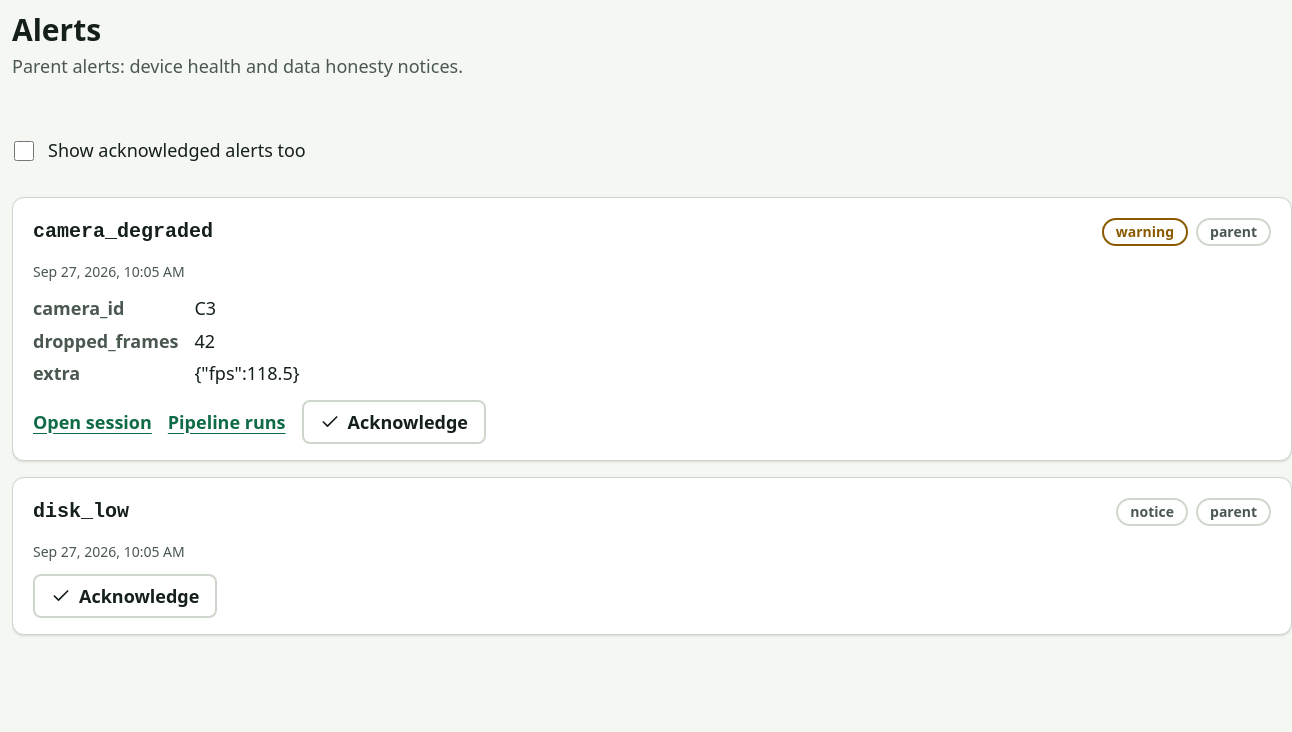
Test case: acknowledgement › replaces the row with the server's answer
Click the button "Acknowledge" next to "Pipeline runs" at (394,422), box [302,400,486,444]
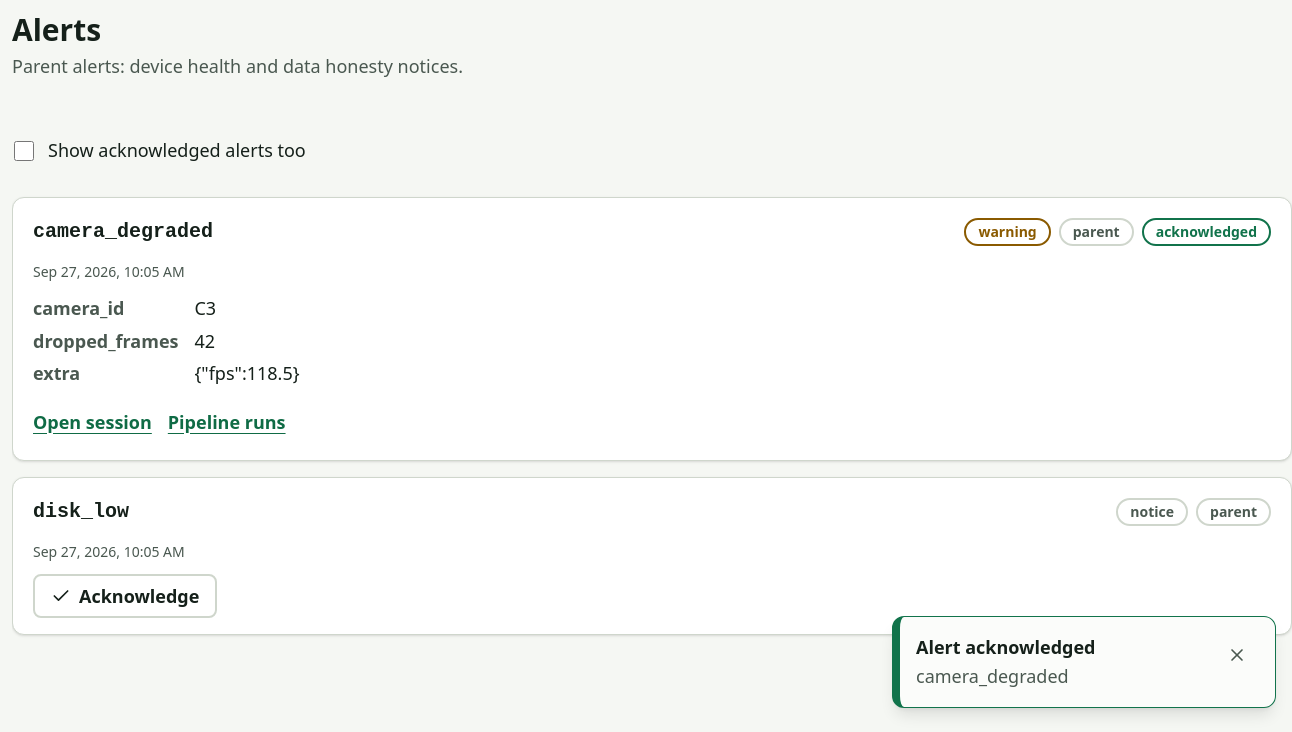
expect the list item with test id "alert-a2" is shown: met, box [12,477,1291,635]
expect the text "Alert acknowledged" is shown: met, box [916,635,1096,659]
expect the text "acknowledged" is shown: met, box [1142,218,1271,246]
